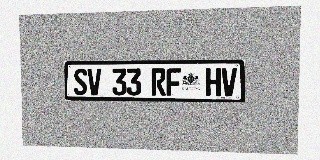3: (127, 68, 141, 96), (112, 68, 126, 95)
F: (166, 68, 181, 96)
H: (206, 68, 221, 96)
R: (151, 68, 166, 96)
S: (74, 69, 87, 95)
V: (221, 68, 237, 96), (87, 68, 101, 95)
